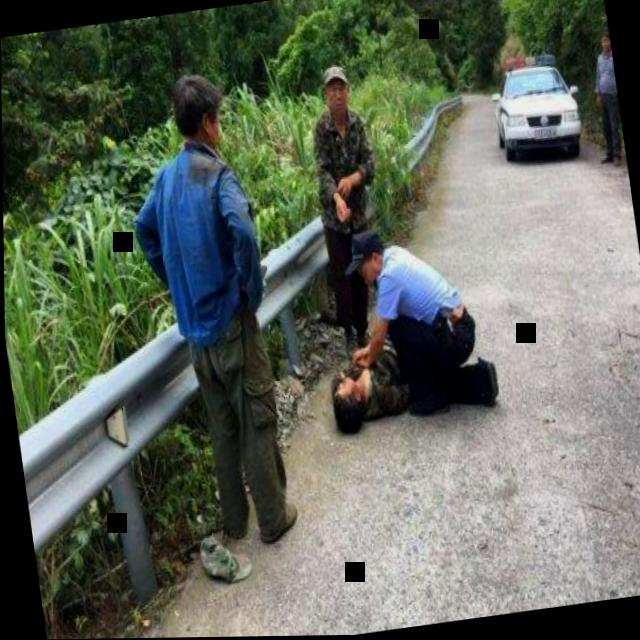Fall-Detected: (319, 320, 411, 440)
